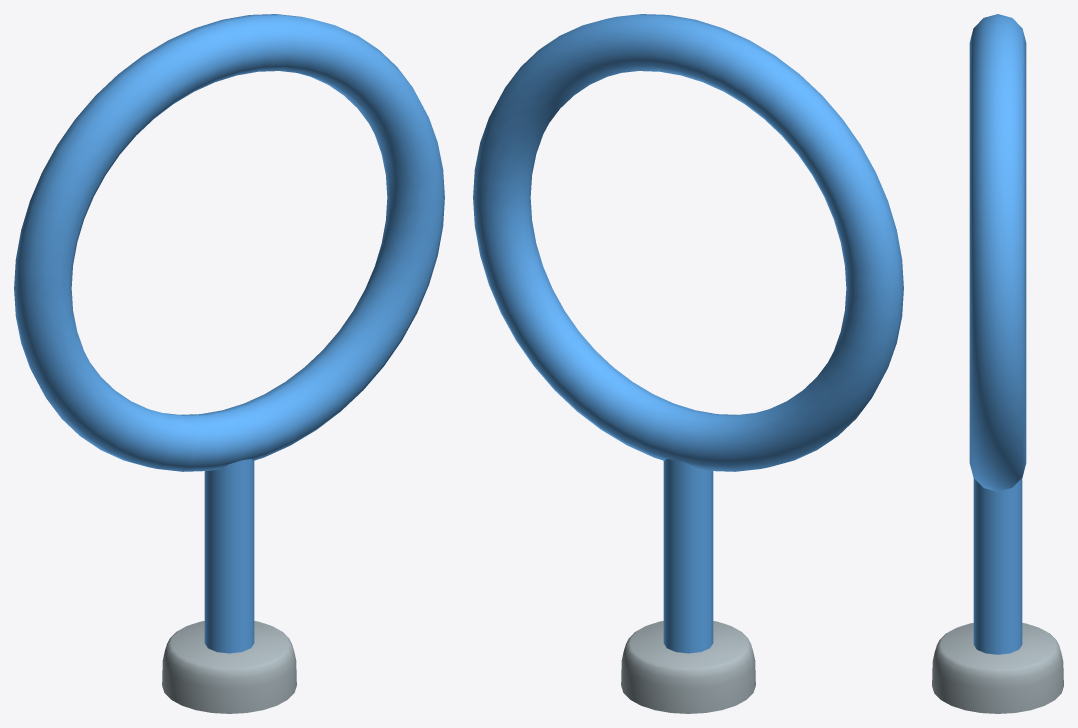
The model's file is ring_teamBlue.glb.
3 views of the same model, side by side, from view 1: azimuth 30°, elevation 25°; view 2: azimuth 150°, elevation 25°; view 3: azimuth 270°, elevation 25° (orthographic). The views are drawn at different scales.
Parts seen in each view (by area): view 1: ring_teamBlue; view 2: ring_teamBlue; view 3: ring_teamBlue.
Boxes of the visible parts, bbox=[...] form: ring_teamBlue: bbox=[14, 14, 444, 713]; ring_teamBlue: bbox=[473, 14, 903, 713]; ring_teamBlue: bbox=[932, 14, 1063, 713].
Bounding box in the file's own units: 2 × 3 × 0.5524.
